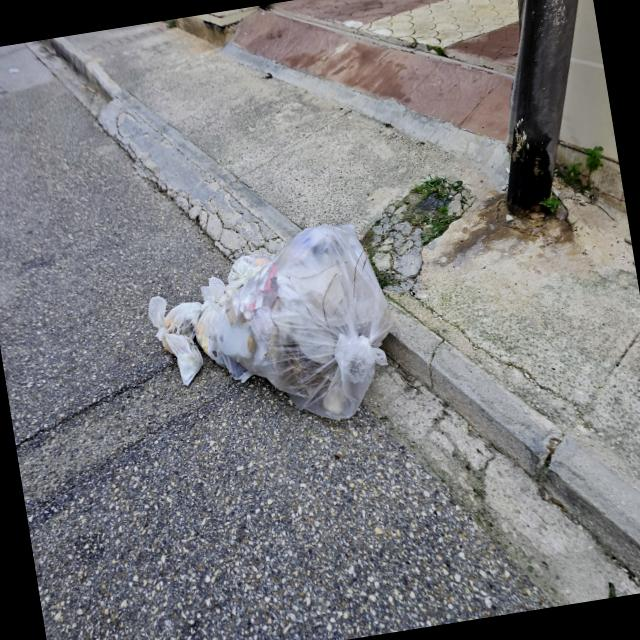white_bag: (190, 207, 411, 444), (144, 286, 213, 394)
